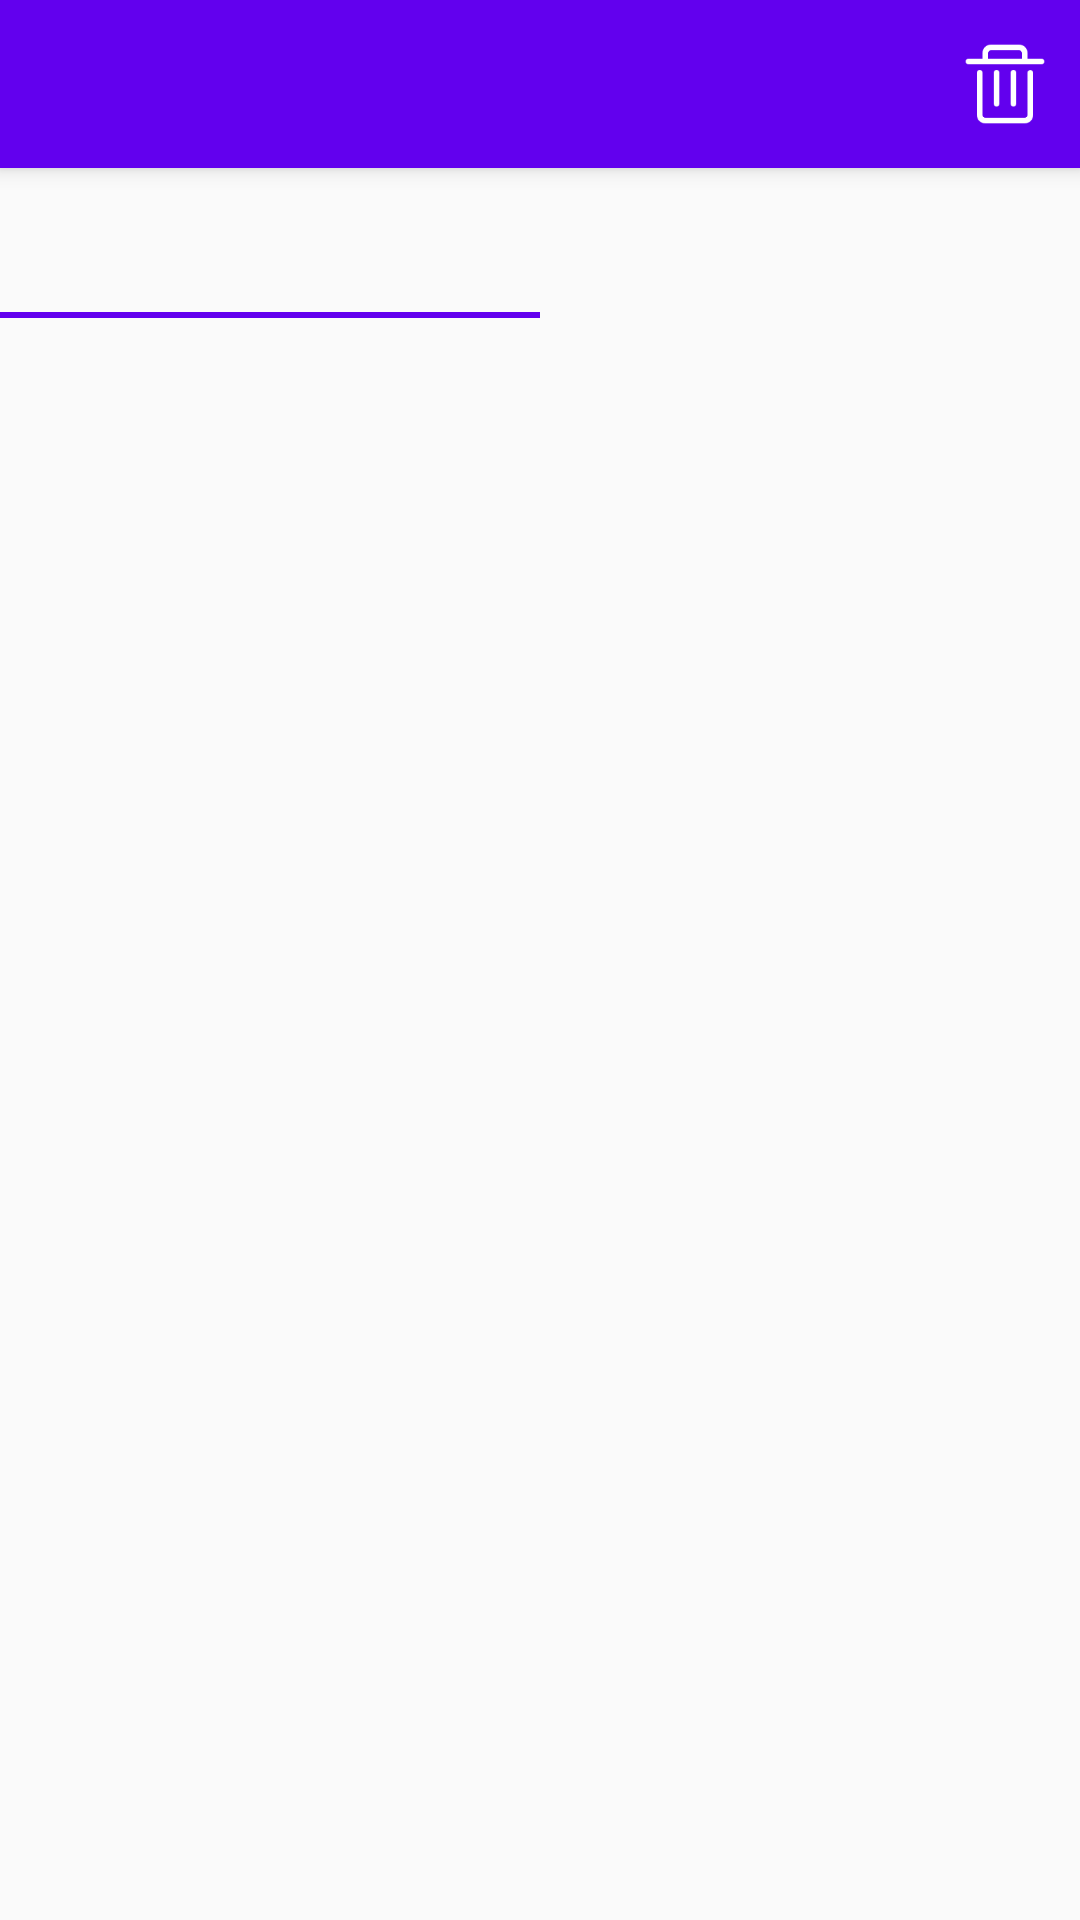

Where icons sit on this 1080 × 1920 app screen, as [x1=x1, y1=y1, x2=x2, y2=y2]:
delete: [x1=965, y1=44, x2=1045, y2=124]
